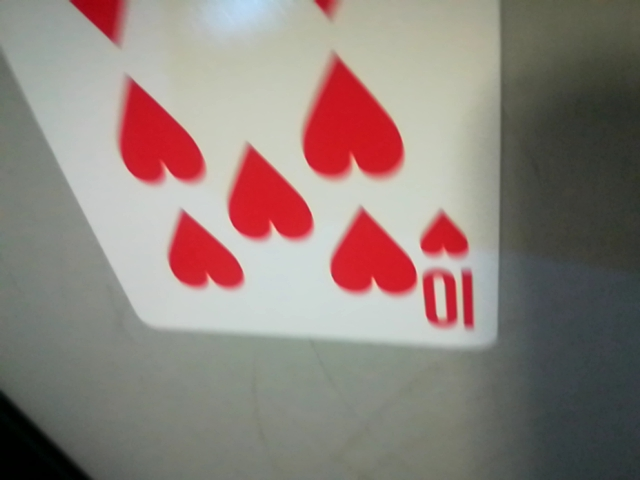hx 10: (409, 202, 492, 342)
